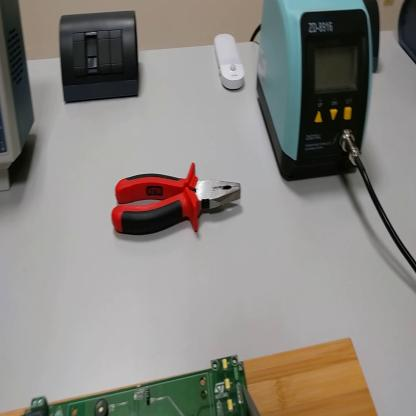low voltage board: (23, 356, 250, 416)
oscilloscope: (2, 1, 36, 193)
oscilloscope probe tip: (245, 386, 261, 416)
pliers: (107, 158, 243, 236)
socket: (366, 1, 383, 74), (397, 3, 416, 65)
welder station: (257, 2, 375, 183)
working area: (2, 334, 378, 416)
